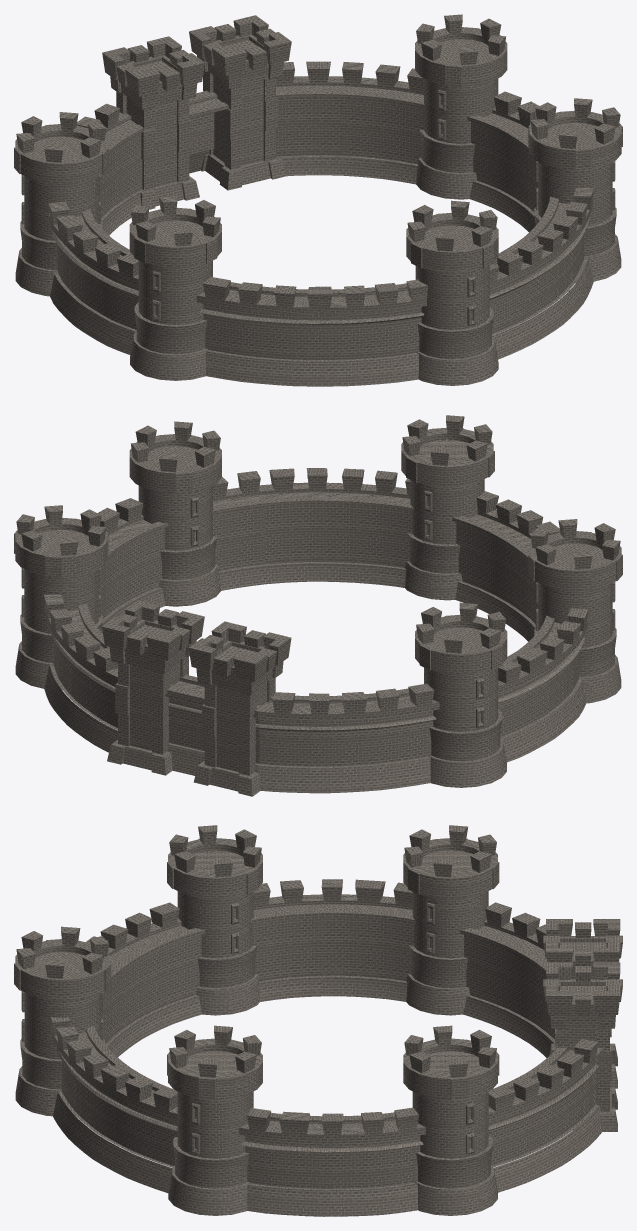
File: Rampart.fbx
3 renders of one model, top to bottom at view 1: azimuth 30°, elevation 25°; view 2: azimuth 150°, elevation 25°; view 3: azimuth 270°, elevation 25°, orthographic. The views are drawn at different scales.
Visible parts, largest first — view 1: Rampart; view 2: Rampart; view 3: Rampart.
Part boxes in pixels (box(x1,y1,x2,y2)): Rampart: box(14, 14, 622, 386); Rampart: box(14, 415, 622, 796); Rampart: box(14, 825, 622, 1216).
Size of the model in its own units: 17101 by 4946 by 18154.
1 material, 1 textured.
